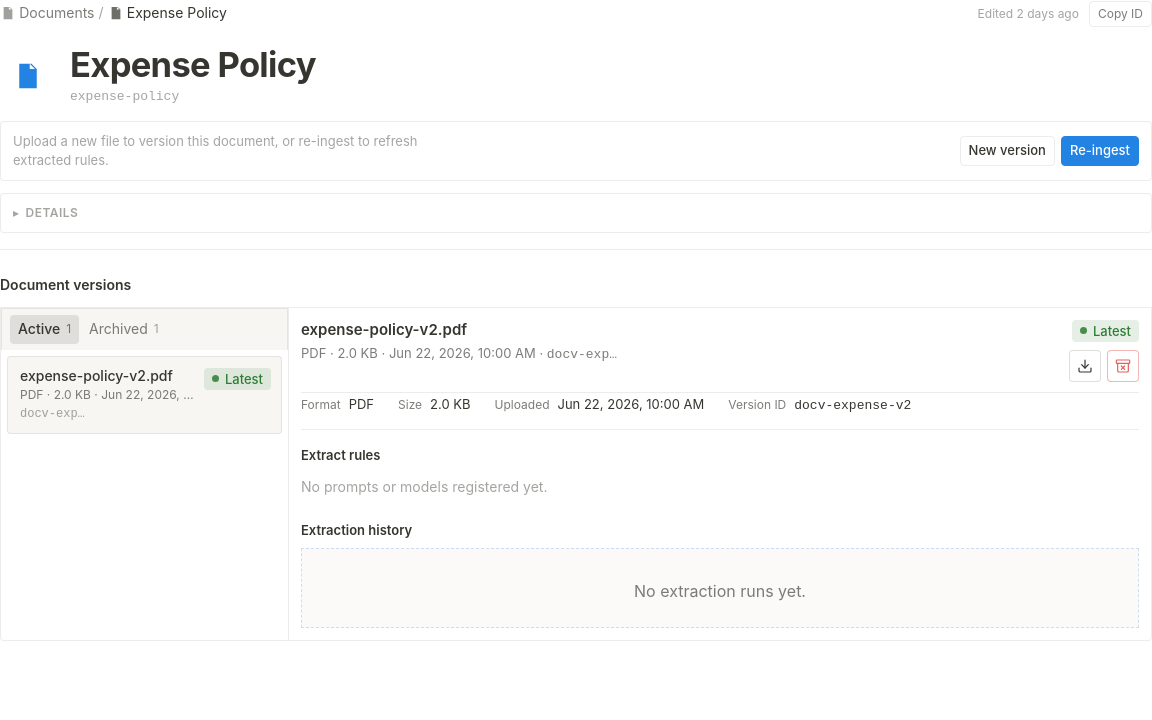
it: DocumentDetail › shows the upload drawer for admins and hides it for viewers
expect the text "docv-expense-v2" is shown: met, box left=794, top=398, right=911, bottom=413
expect the heading "New Document Version" is not shown: met
What coordinates should you click on to do the following:
click the button "New version"
I would click on:
 (1007, 151)
Its box is left=960, top=136, right=1055, bottom=166.
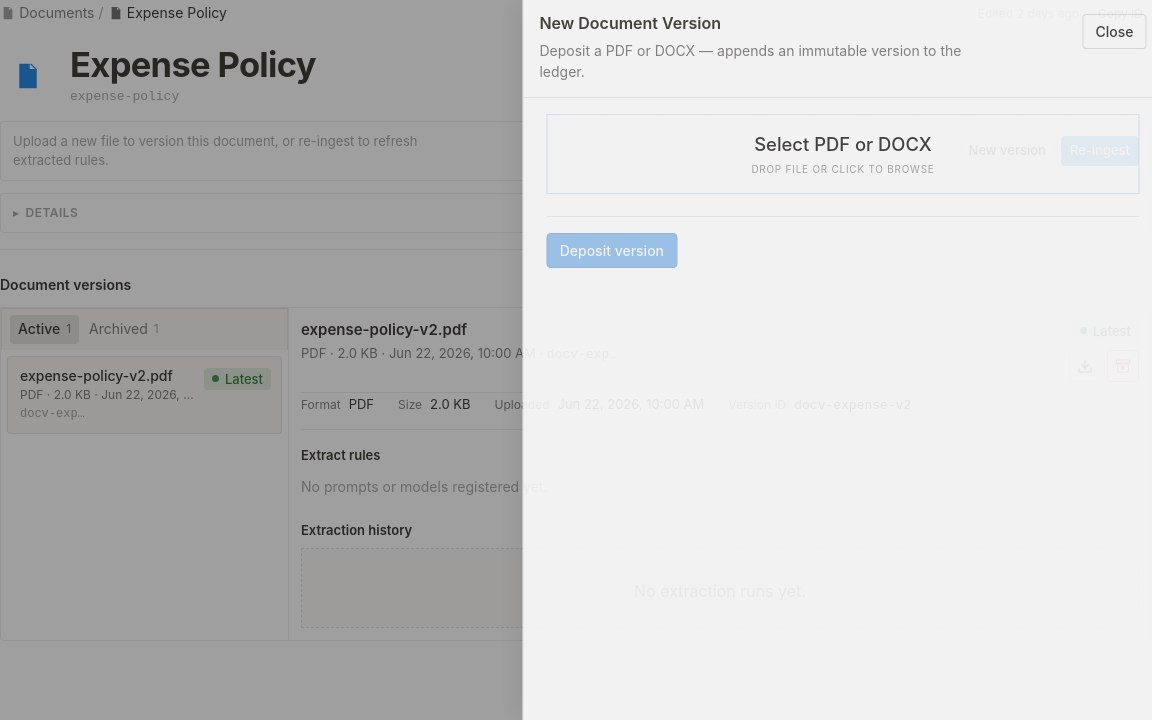
expect the heading "New Document Version" is shown: met, box left=533, top=13, right=715, bottom=33
expect the button "Deposit version" is shown: met, box left=540, top=232, right=671, bottom=268
